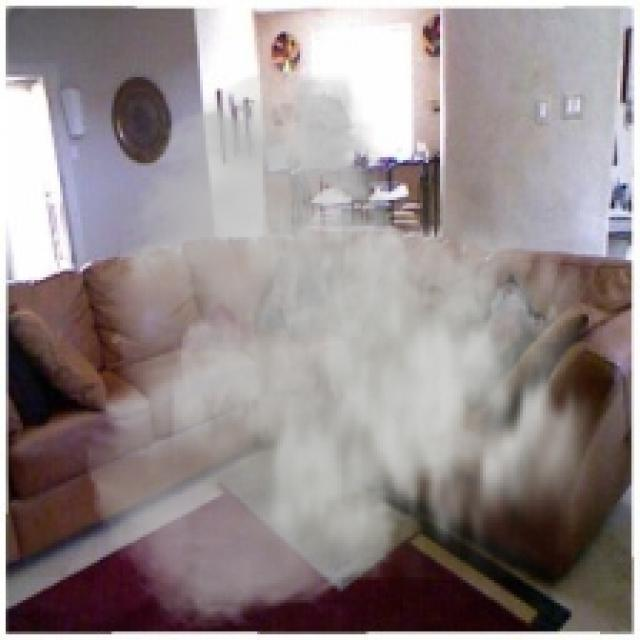Smoke: (83, 66, 623, 634)
